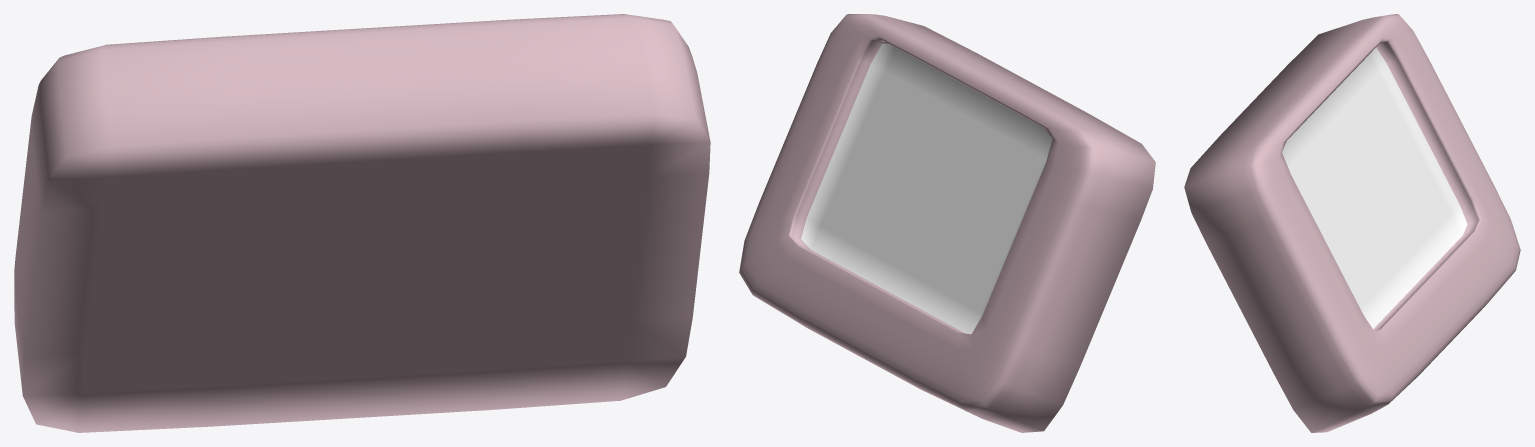
The model's file is Oden_Timer_Model.gltf.
3 views of the same model, side by side, from view 1: azimuth 30°, elevation 25°; view 2: azimuth 150°, elevation 25°; view 3: azimuth 270°, elevation 25° (orthographic). The views are drawn at different scales.
Visible parts, largest first — view 1: Oden_Timer_Model; view 2: Oden_Timer_Model; view 3: Oden_Timer_Model.
Part boxes in pixels (<box>): Oden_Timer_Model: <box>14,14,710,432</box>; Oden_Timer_Model: <box>739,14,1155,432</box>; Oden_Timer_Model: <box>1184,14,1520,432</box>.
Bounding box in the file's own units: 3.93 × 2.64 × 2.94.
